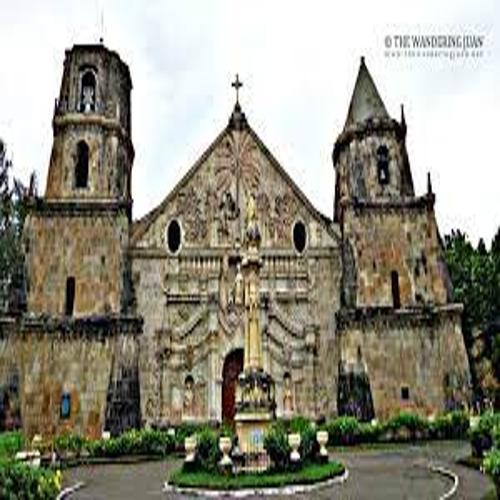Miagao Church: (12, 19, 484, 434)
